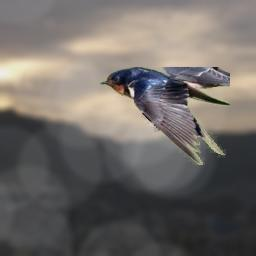Swallow: (100, 67, 230, 165)
